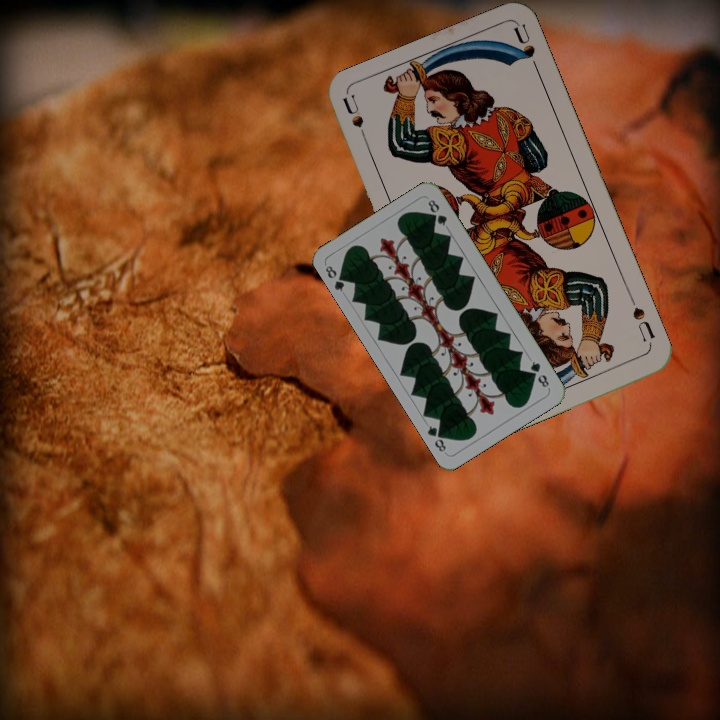G8: (321, 261, 350, 294), (526, 357, 552, 390)
SU: (339, 92, 372, 151), (626, 292, 658, 348)
